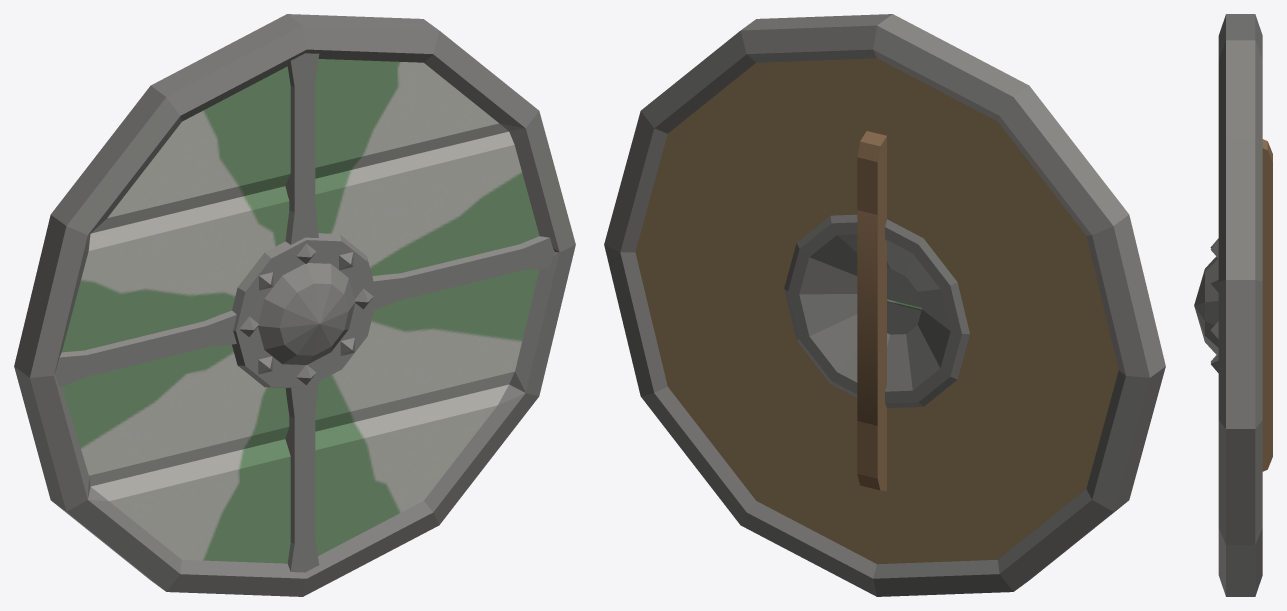
File: SM_pwe_slavic_shield_03i.fbx
3 renders of one model, left to right at view 1: azimuth 30°, elevation 25°; view 2: azimuth 150°, elevation 25°; view 3: azimuth 270°, elevation 25°, orthographic. The views are drawn at different scales.
Parts seen in each view (by area): view 1: SM_pwe_slavic_shield_03i; view 2: SM_pwe_slavic_shield_03i; view 3: SM_pwe_slavic_shield_03i.
Boxes of the visible parts, box(x1,y1,x2,y2) form: SM_pwe_slavic_shield_03i: box(14, 14, 575, 596); SM_pwe_slavic_shield_03i: box(604, 14, 1165, 596); SM_pwe_slavic_shield_03i: box(1194, 14, 1272, 596).
Bounding box in the file's own units: 70.52 × 70.52 × 9.5.
